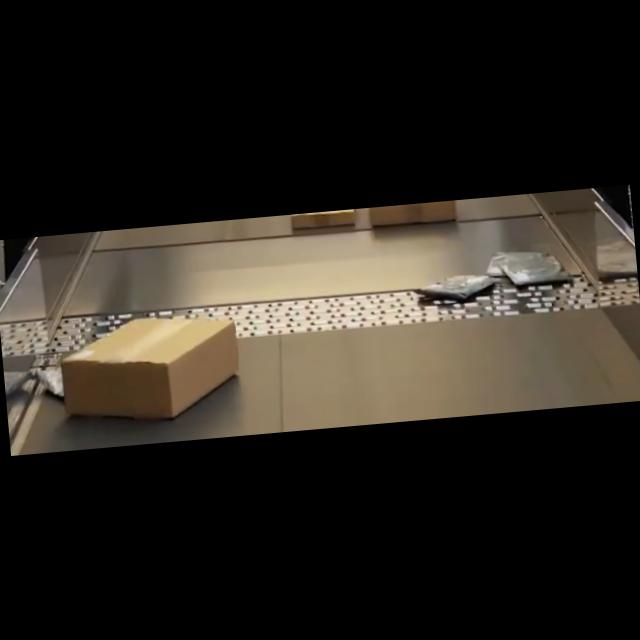box: (61, 306, 244, 424), (368, 200, 458, 227), (288, 209, 358, 230)
mailer: (419, 272, 496, 306), (501, 255, 574, 289), (486, 244, 554, 276)
